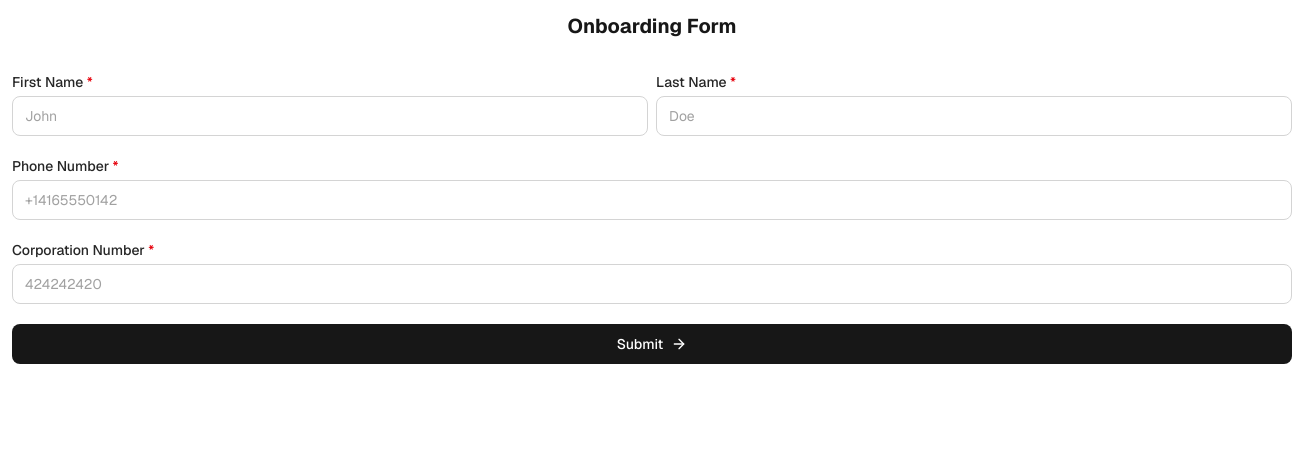
OnboardingForm › shows required errors when submitted empty
Click the button "Submit": (652, 344) [12,324,1292,364]
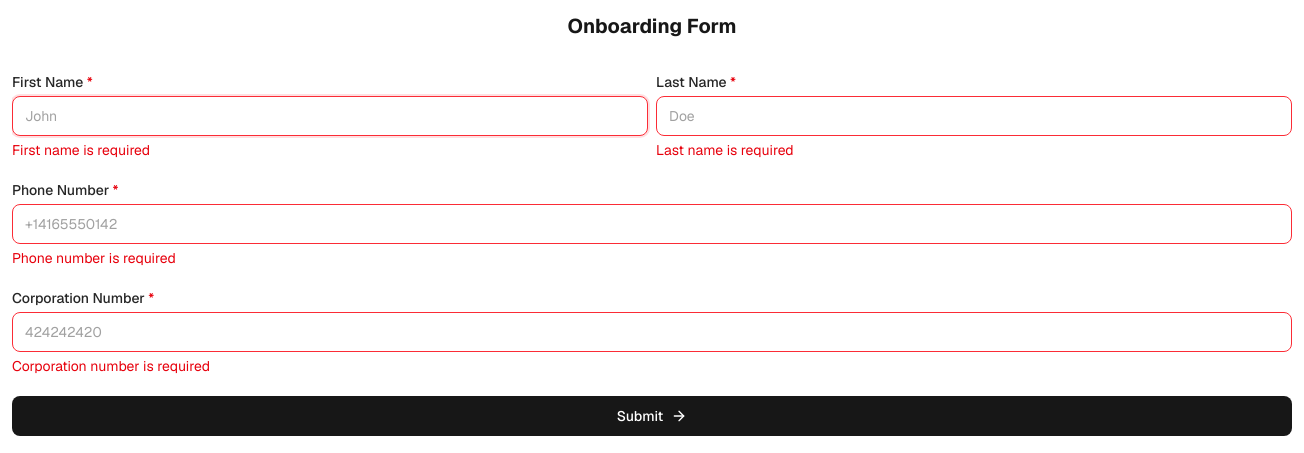
Expected: the text "First name is required" is shown, [12,141,150,159]
Expected: the text "Last name is required" is shown, [656,141,794,159]
Expected: the text "Phone number is required" is shown, [12,249,176,267]
